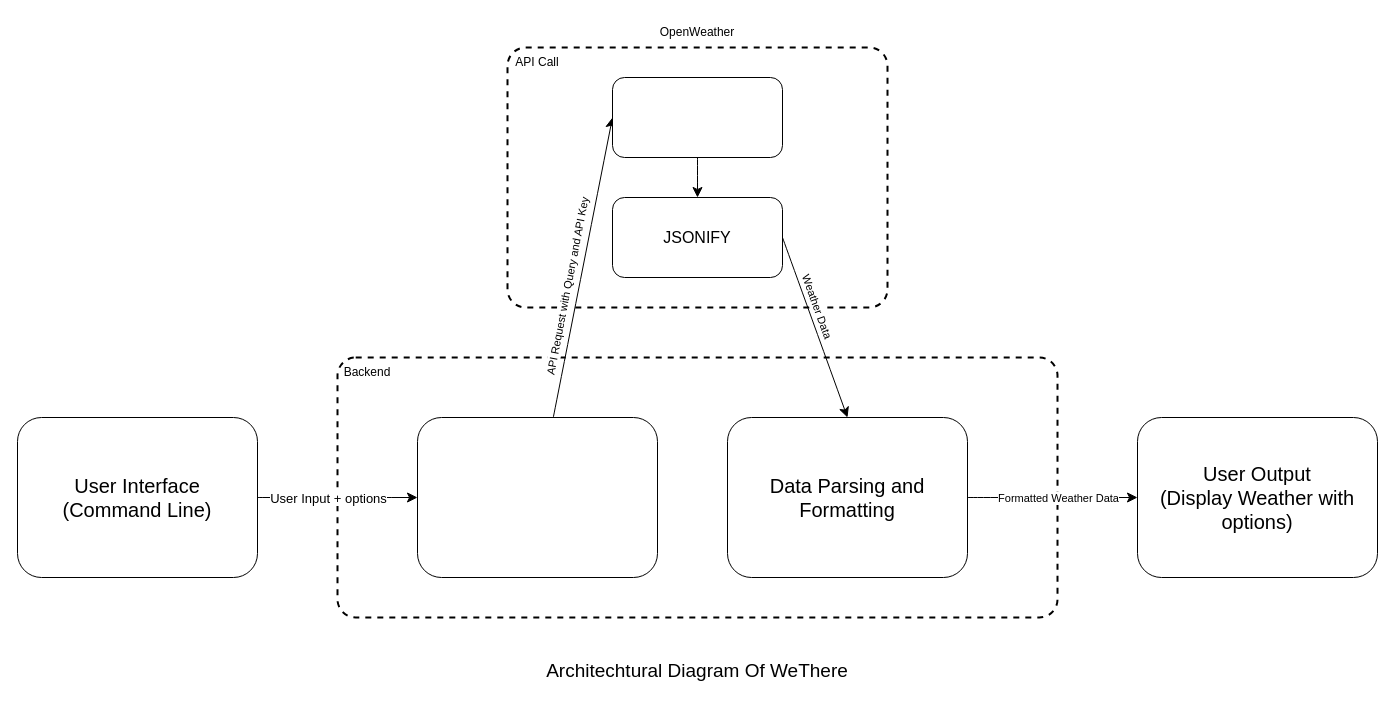
The diagram is 1395 pixels wide and 708 high, and some of its shapes have lost their labels. Each missing label, with the centre of its shape:
Argument parsing and Validation: point 537,497
Get Weather: point 697,117
